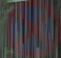No Stopping: (8, 2, 53, 50)
